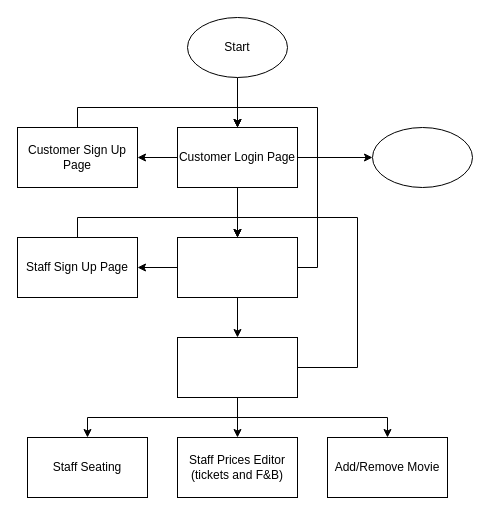
The diagram is 490 pixels wide and 515 high, and some of its shapes have lost their labels. Here are the shapes that lost their labels. From the top down, the centre of each, then its label:
At point 422,157: "Go to main.java in App package".
At point 237,267: "Staff Login Page".
At point 237,367: "Staff Editing Area".
